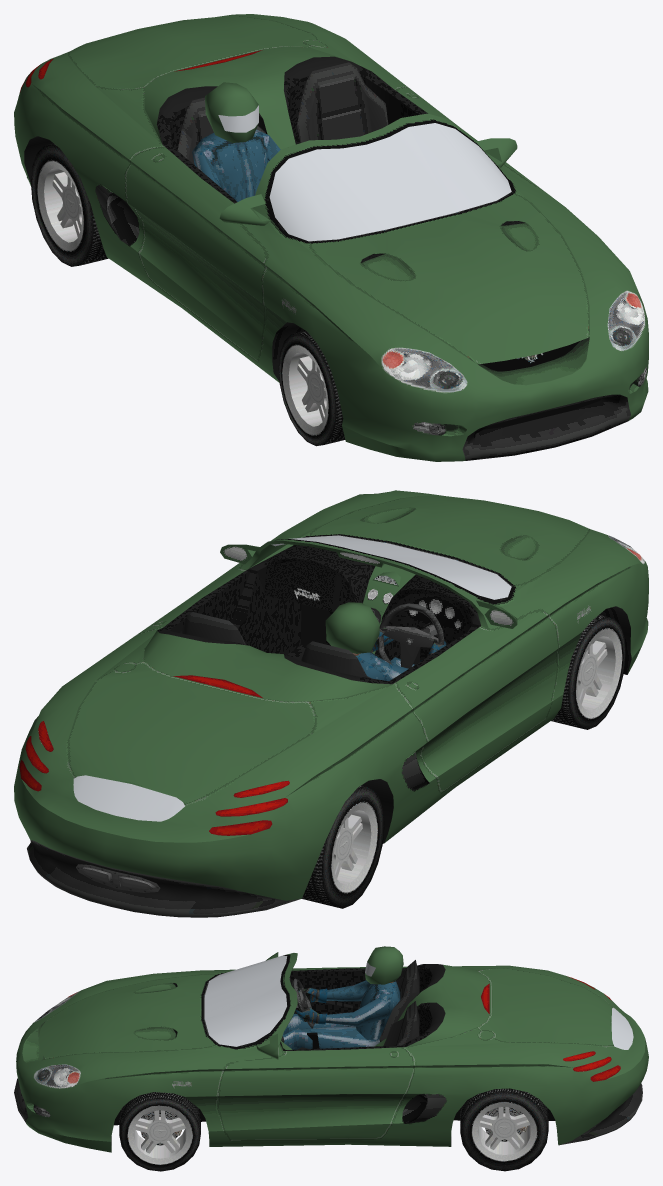
Rendered from MACH3.glb.
3 views of the same model, one above another, from view 1: azimuth 30°, elevation 25°; view 2: azimuth 150°, elevation 25°; view 3: azimuth 270°, elevation 25° (orthographic). The views are drawn at different scales.
Parts seen in each view (by area): view 1: tree_node_127fac, WHEEL_STATIC_0x128204, WHEEL_STATIC_0x12814c, HELMET_0x12806c; view 2: tree_node_127fac, WHEEL_STATIC_0x128204, WHEEL_STATIC_0x12814c, BRAKE_LIGHTS_OFF_0x1280bc, HELMET_0x12806c; view 3: tree_node_127fac, WHEEL_STATIC_0x128374, WHEEL_STATIC_0x1282bc, HELMET_0x12806c, BRAKE_LIGHTS_OFF_0x1280bc.
Part boxes in pixels (x1,y1,x2,y2): tree_node_127fac: (14,14,648,461); WHEEL_STATIC_0x128204: (31,143,108,266); WHEEL_STATIC_0x12814c: (278,331,345,446); HELMET_0x12806c: (205,82,258,142); tree_node_127fac: (14,490,648,917); WHEEL_STATIC_0x128204: (302,785,384,908); WHEEL_STATIC_0x12814c: (551,615,625,729); BRAKE_LIGHTS_OFF_0x1280bc: (19,675,289,835); HELMET_0x12806c: (325,602,379,653); tree_node_127fac: (14,952,648,1152); WHEEL_STATIC_0x128374: (460,1088,548,1171); WHEEL_STATIC_0x1282bc: (119,1092,200,1171); HELMET_0x12806c: (365,946,403,984); BRAKE_LIGHTS_OFF_0x1280bc: (481,976,620,1081).
Size of the model in its own units: 1.94 by 1.28 by 4.82.
2 materials, 1 textured.
